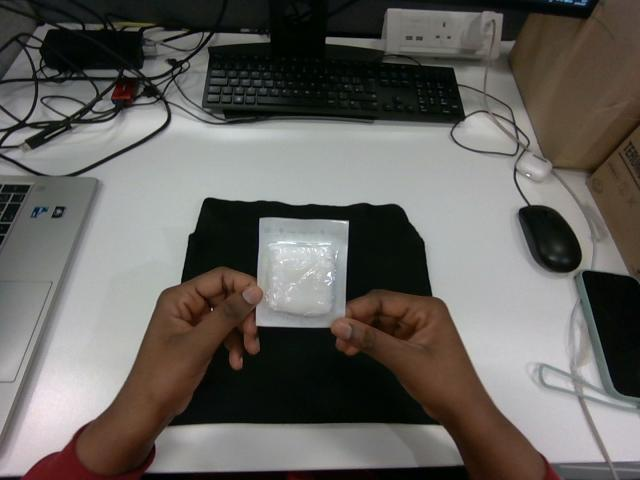gauze: (256, 217, 348, 327)
